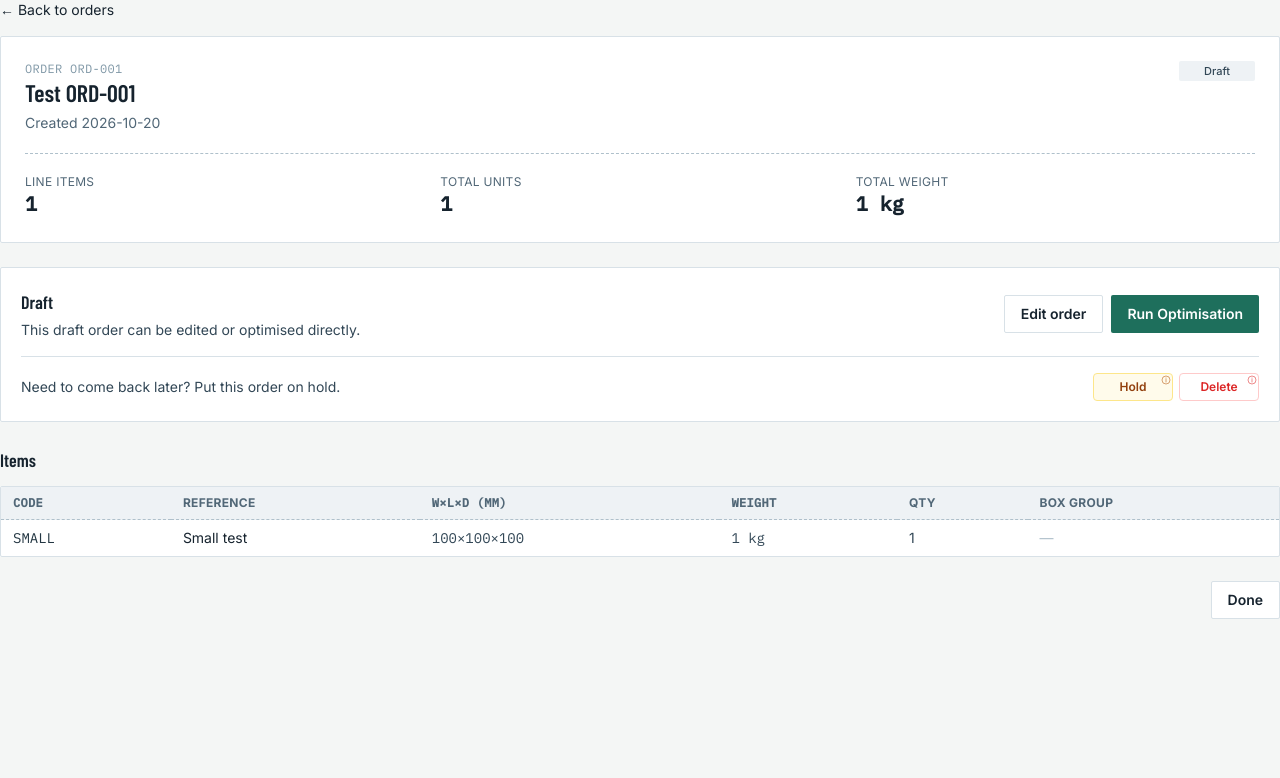
Test case: direct draft optimisation › lets a SUPERVISOR optimise a draft without submitting it
Expected: the element showing "Draft" is shown, [1179,61,1255,81]
Click the button "Run Optimisation" at (1185, 314), box [1111,295,1259,333]
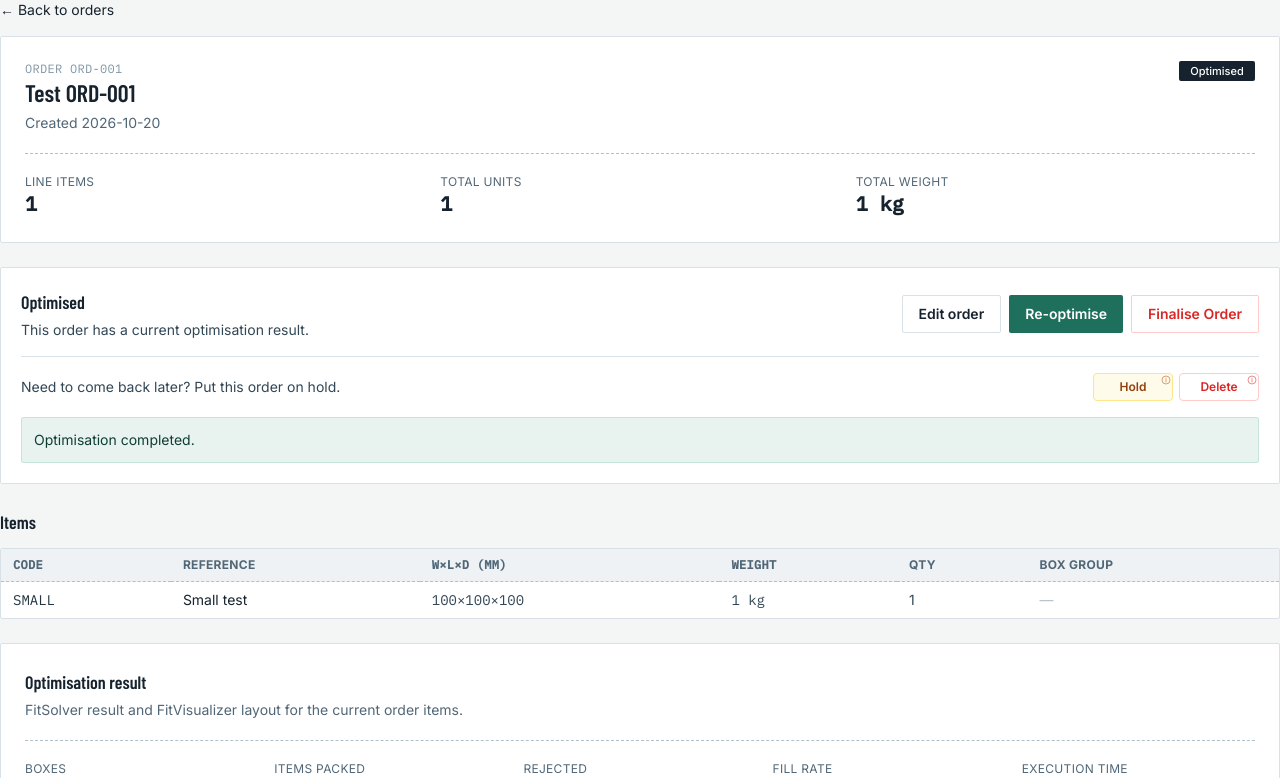
Expected: the element showing "Optimised" is shown, [1179,61,1255,81]
Expected: the button "Finalise Order" is enabled, [1131,295,1259,333]
